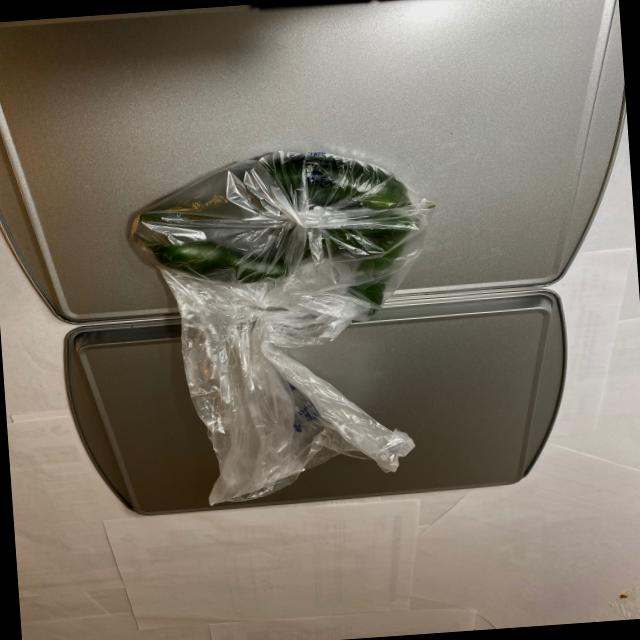chilli: (106, 148, 430, 334)
